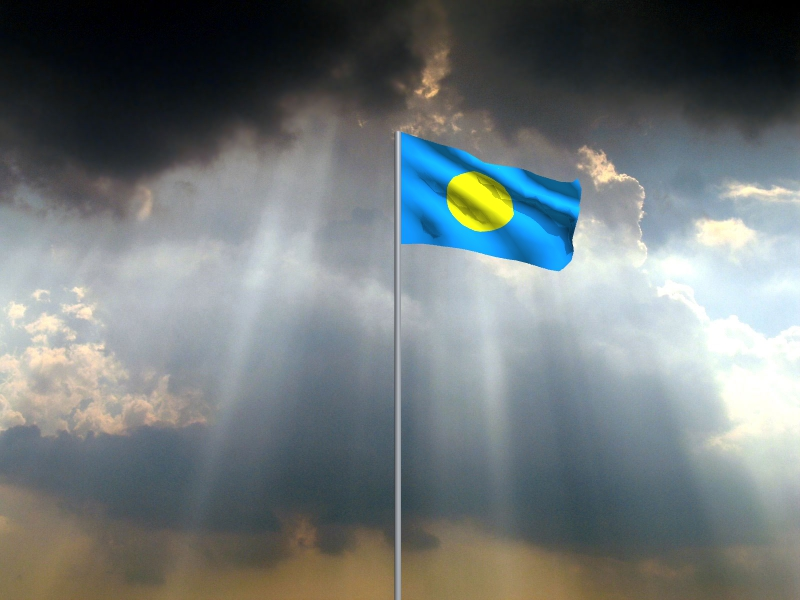pw: (401, 133, 583, 273)
